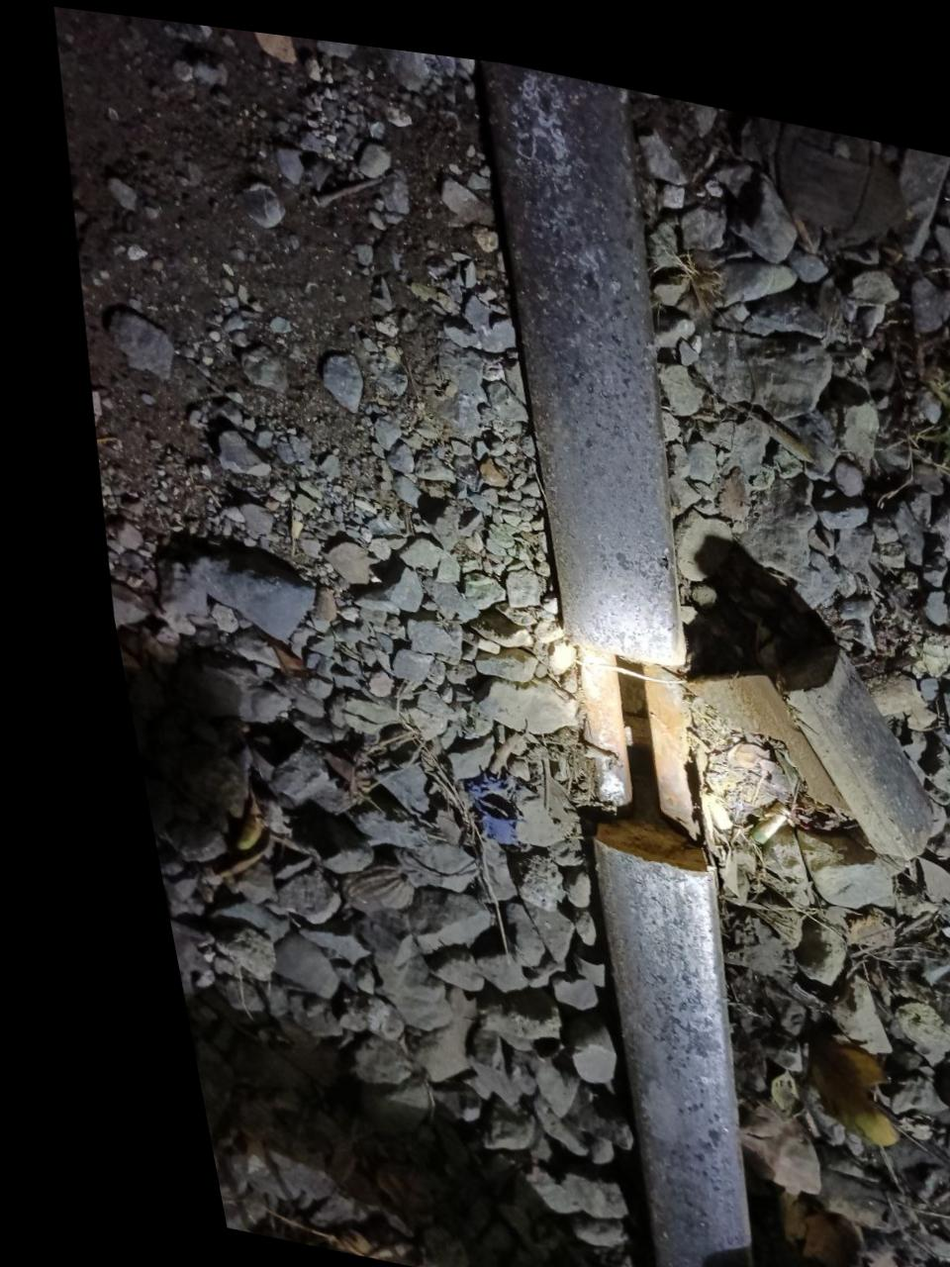person: (459, 562, 761, 891)
